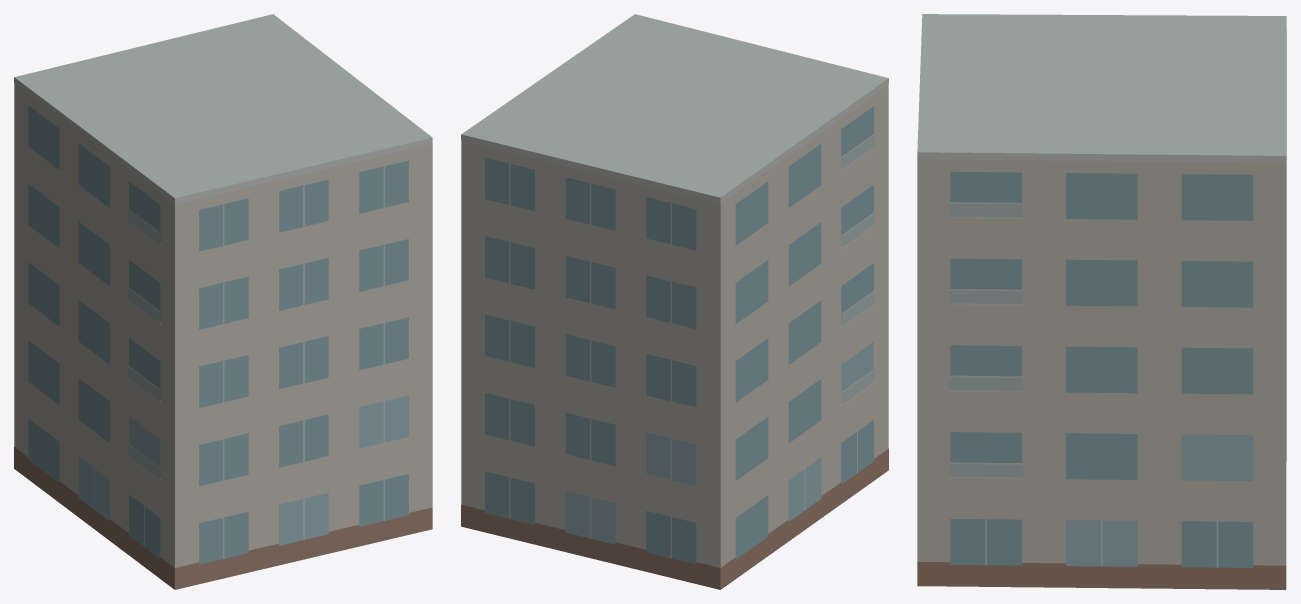
File: survey-upis-32638105.glb
3 views of the same model, side by side, from view 1: azimuth 30°, elevation 25°; view 2: azimuth 150°, elevation 25°; view 3: azimuth 270°, elevation 25° (orthographic). The views are drawn at different scales.
Parts seen in each view (by area): view 1: survey-upis-32638105.tmp; view 2: survey-upis-32638105.tmp; view 3: survey-upis-32638105.tmp.
Boxes of the visible parts, x1,y1,x2,y2 form: survey-upis-32638105.tmp: (14,14,432,589); survey-upis-32638105.tmp: (461,14,888,589); survey-upis-32638105.tmp: (917,14,1286,589).
Bounding box in the file's own units: 10.74 × 15.25 × 11.77.
